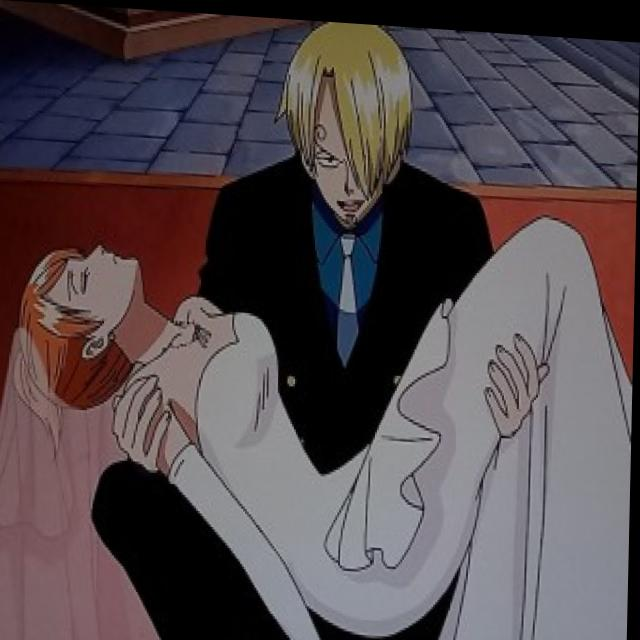Nami: (12, 229, 163, 420)
Sangdi: (271, 14, 421, 224)
